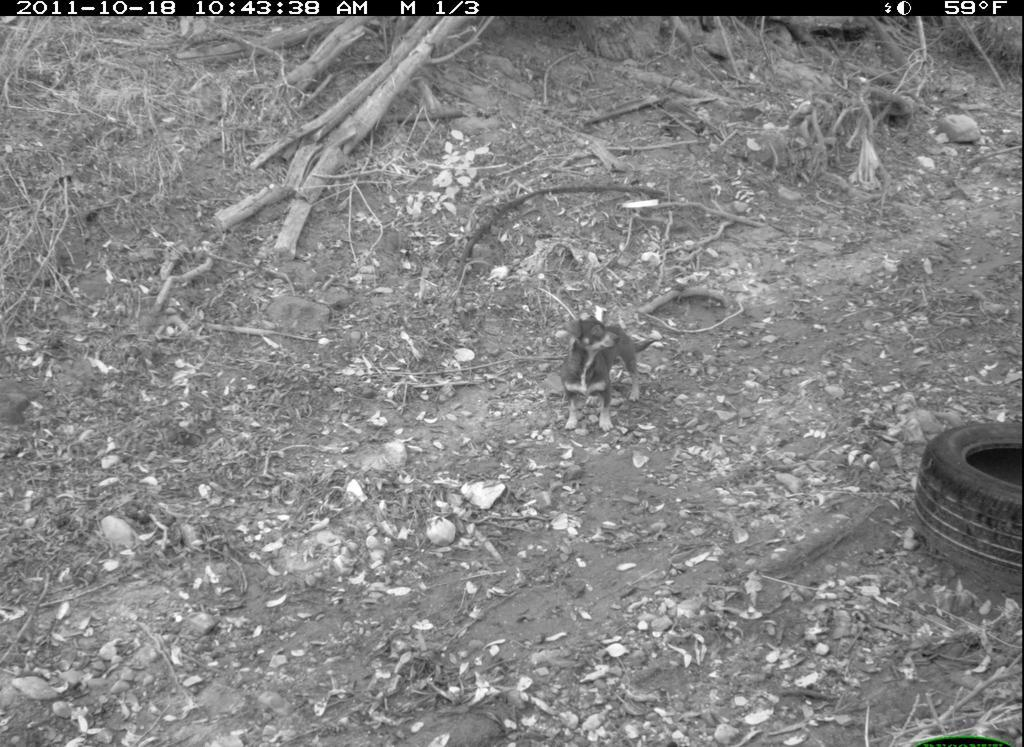dog: (556, 296, 658, 438)
